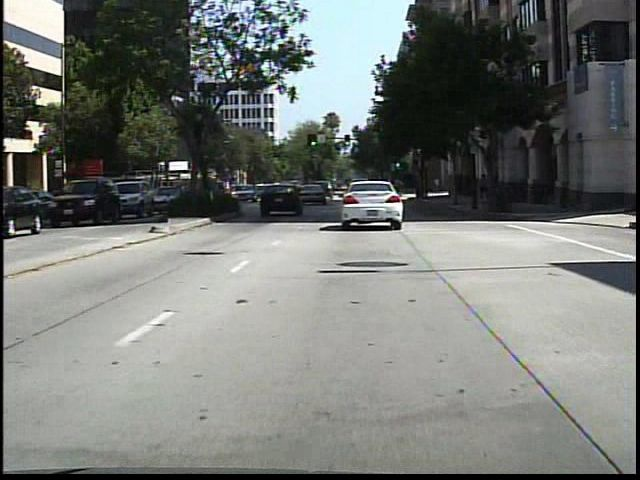person: (476, 166, 494, 209)
